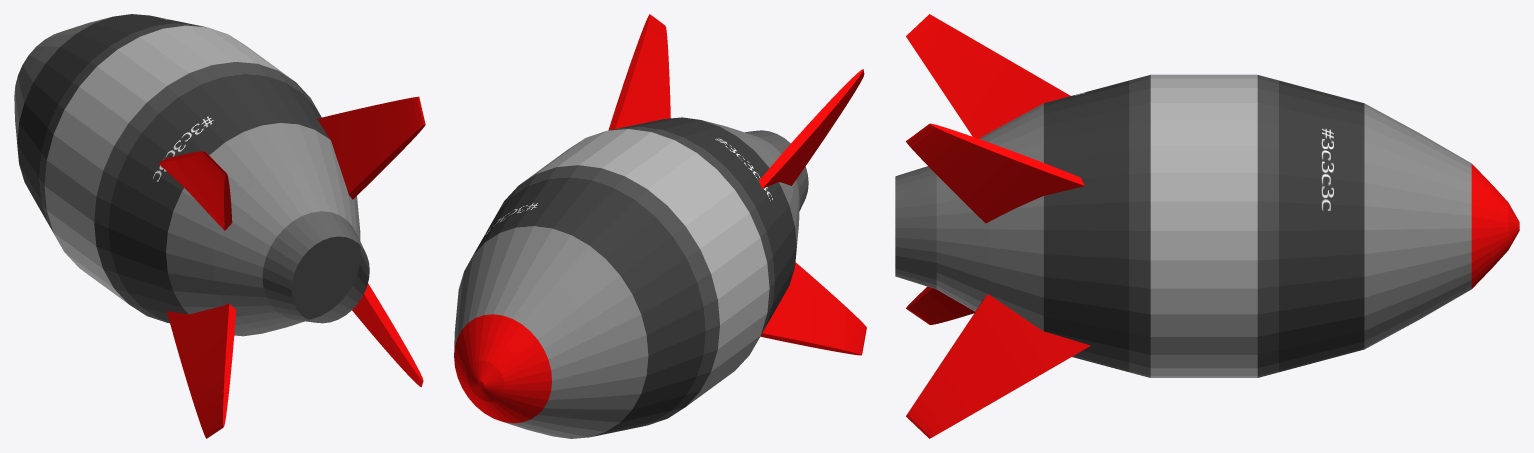
The model's file is Cohete.fbx.
3 renders of one model, left to right at view 1: azimuth 30°, elevation 25°; view 2: azimuth 150°, elevation 25°; view 3: azimuth 270°, elevation 25°, orthographic. The views are drawn at different scales.
Parts seen in each view (by area): view 1: Cohete; view 2: Cohete; view 3: Cohete.
Part boxes in pixels (<box>): Cohete: <box>14,14,425,438</box>; Cohete: <box>454,14,866,438</box>; Cohete: <box>895,14,1519,438</box>.
Size of the model in its own units: 114 by 134 by 242.
4 materials, 4 textured.
